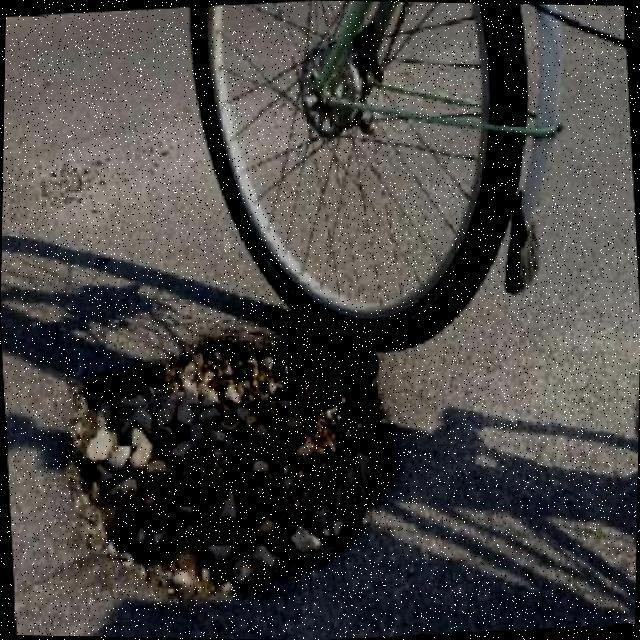Pothole: (72, 346, 390, 599)
